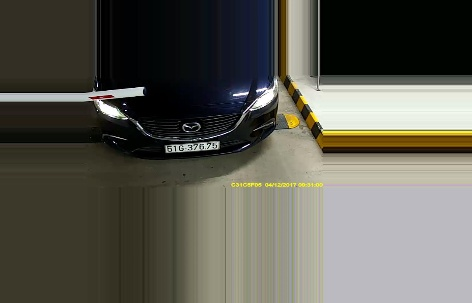plate: (163, 140, 221, 151)
